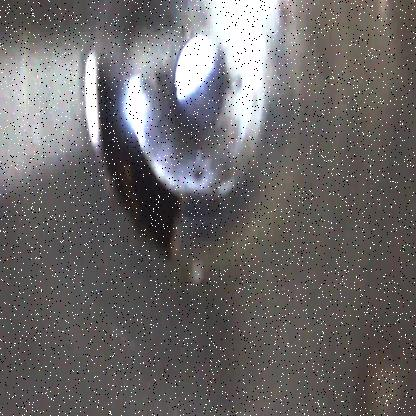Crack2: (82, 49, 184, 266)
